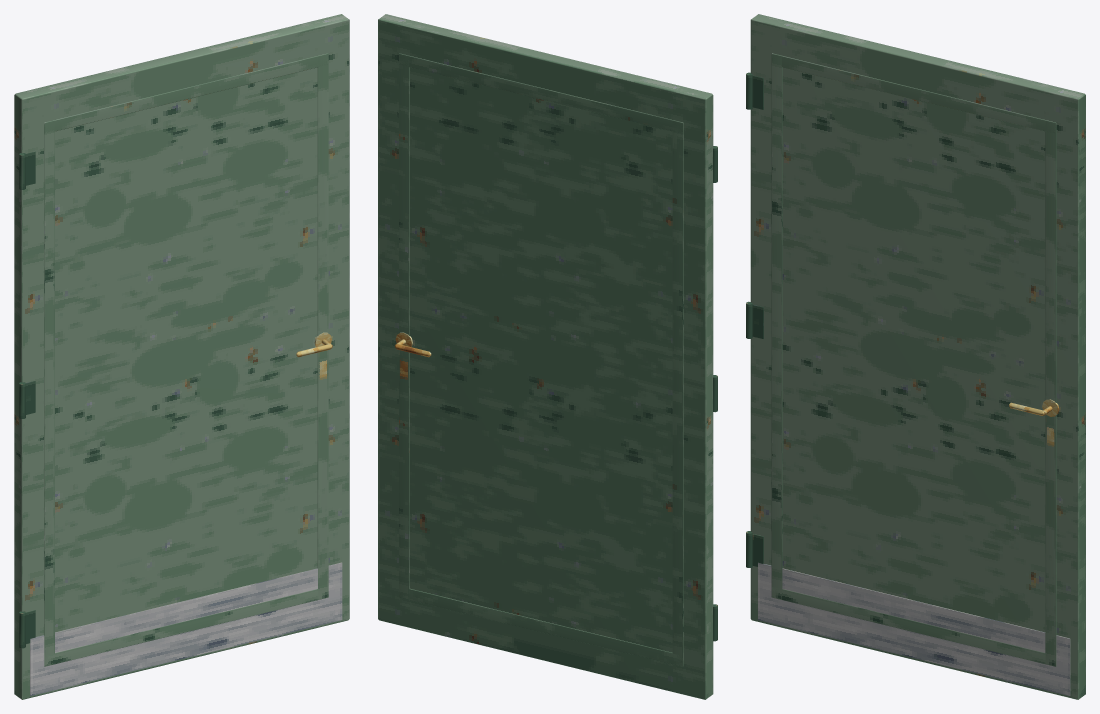
File: gk_door.glb
3 views of the same model, side by side, from view 1: azimuth 30°, elevation 25°; view 2: azimuth 150°, elevation 25°; view 3: azimuth 330°, elevation 25° (orthographic).
Visible parts, largest first — view 1: mesh; view 2: mesh; view 3: mesh.
Boxes of the visible parts, <box> form: mesh: <box>14,14,349,699</box>; mesh: <box>378,14,717,699</box>; mesh: <box>746,14,1085,699</box>.
Bounding box in the file's own units: 1.21 × 2.1 × 0.1659.
Materials: 1 (1 with a texture image).
